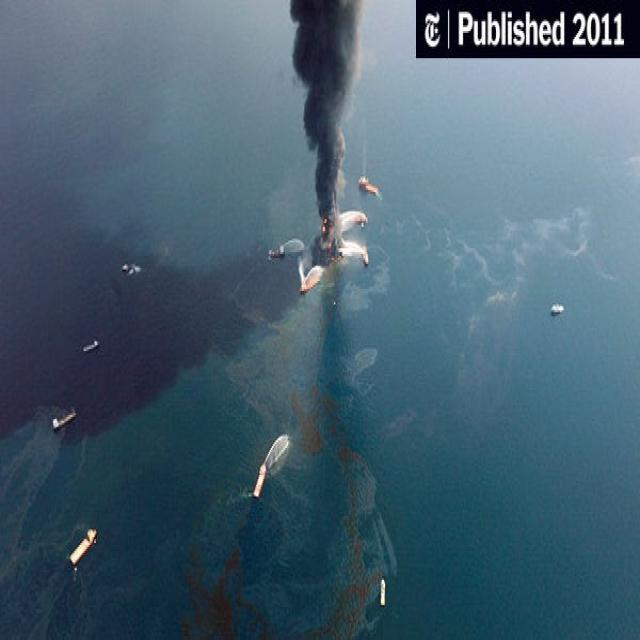sheen: (174, 560, 280, 640), (284, 388, 354, 458), (344, 466, 372, 640)
truecolor: (1, 2, 299, 439)
